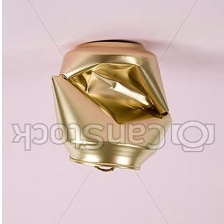can: (50, 36, 171, 173)
